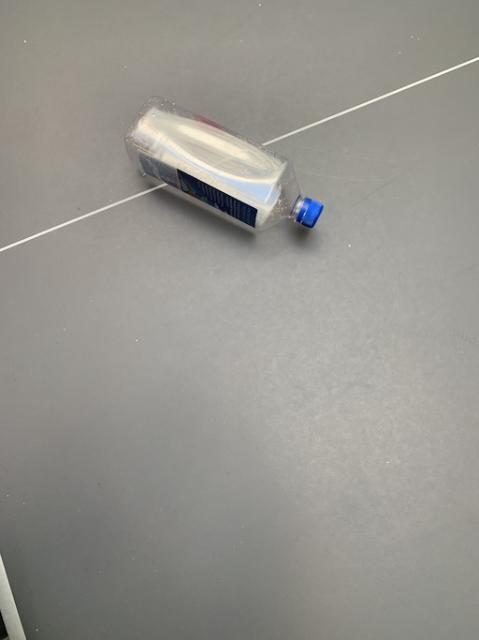plastic: (125, 96, 321, 229)
